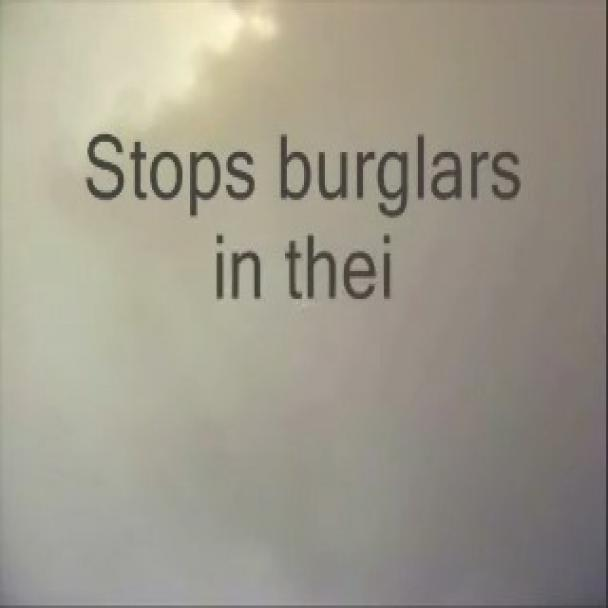smoke: (9, 0, 607, 606)
